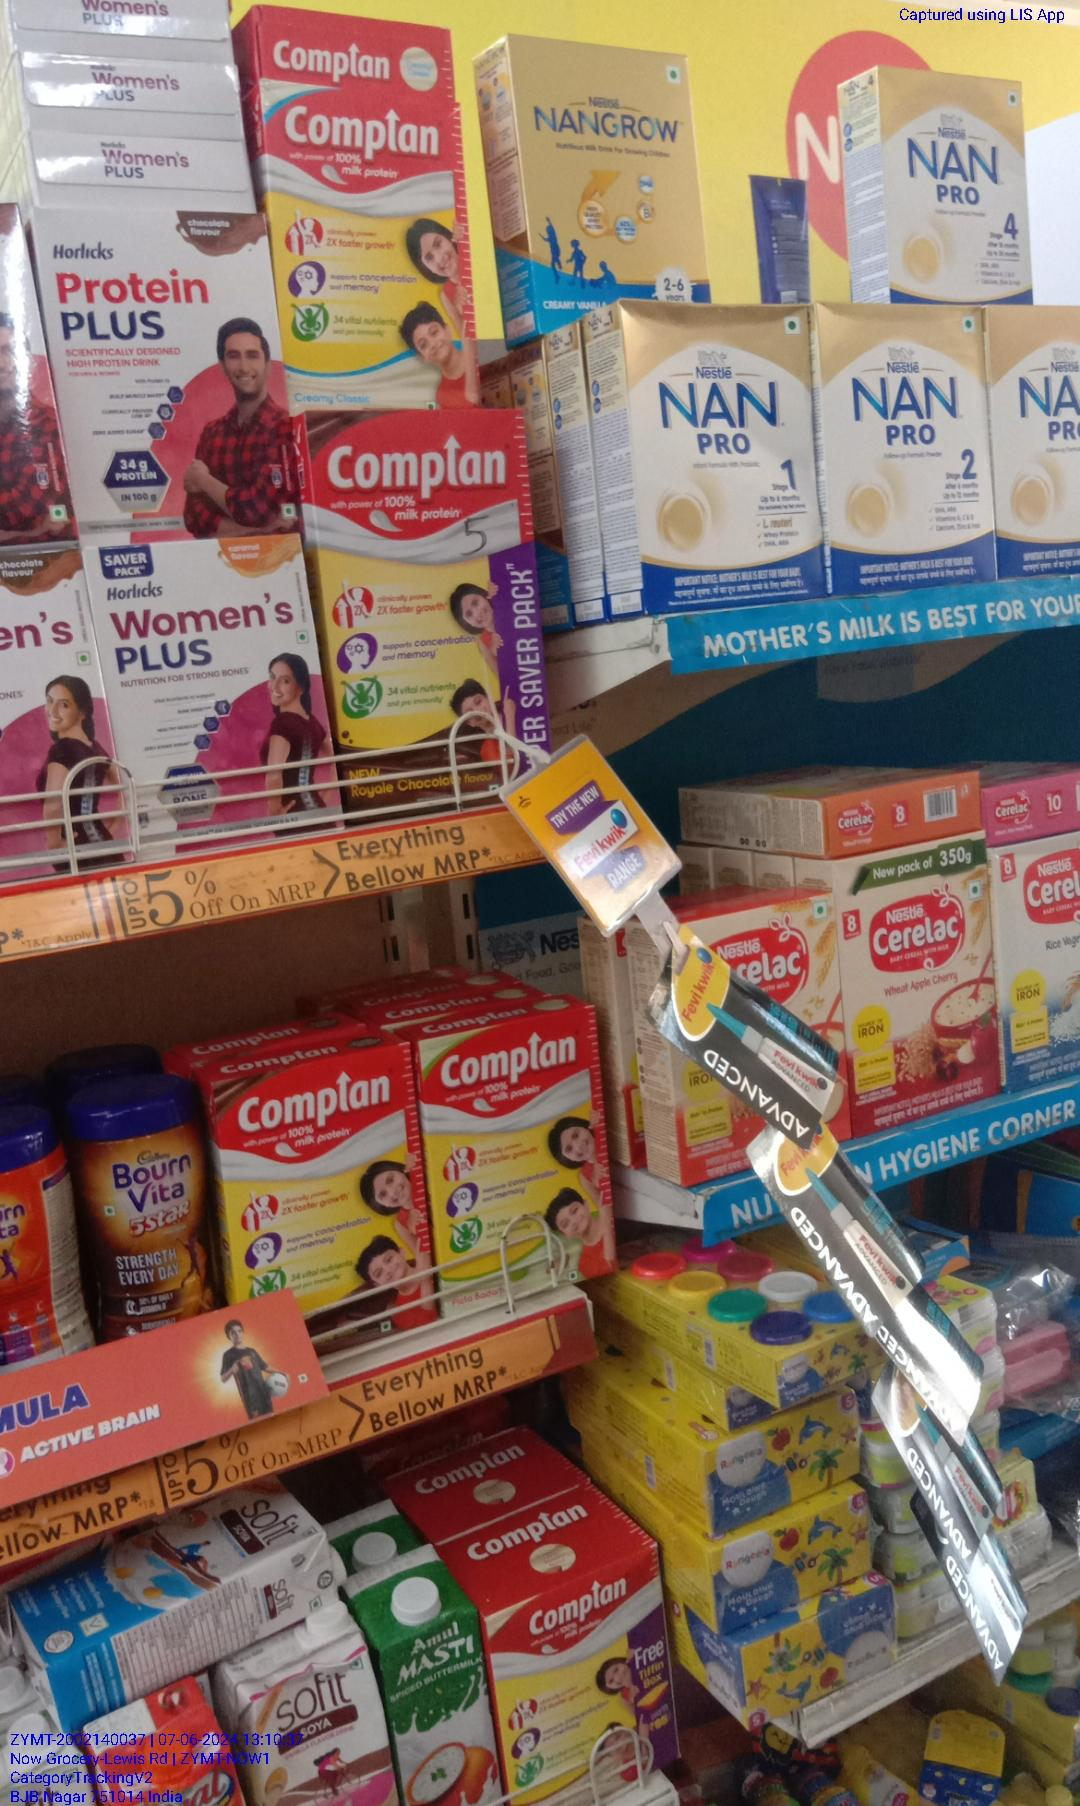BOURN_VITA_FIVE_STAR_MAGIC_500_G_JAR: (87, 1085, 210, 1352)
COMPLAN_CHOCOLATE_1_KG_PACK: (318, 413, 535, 809)
COMPLAN_PISTA_BADAM_500_GMS_PACK: (426, 1022, 607, 1319)
